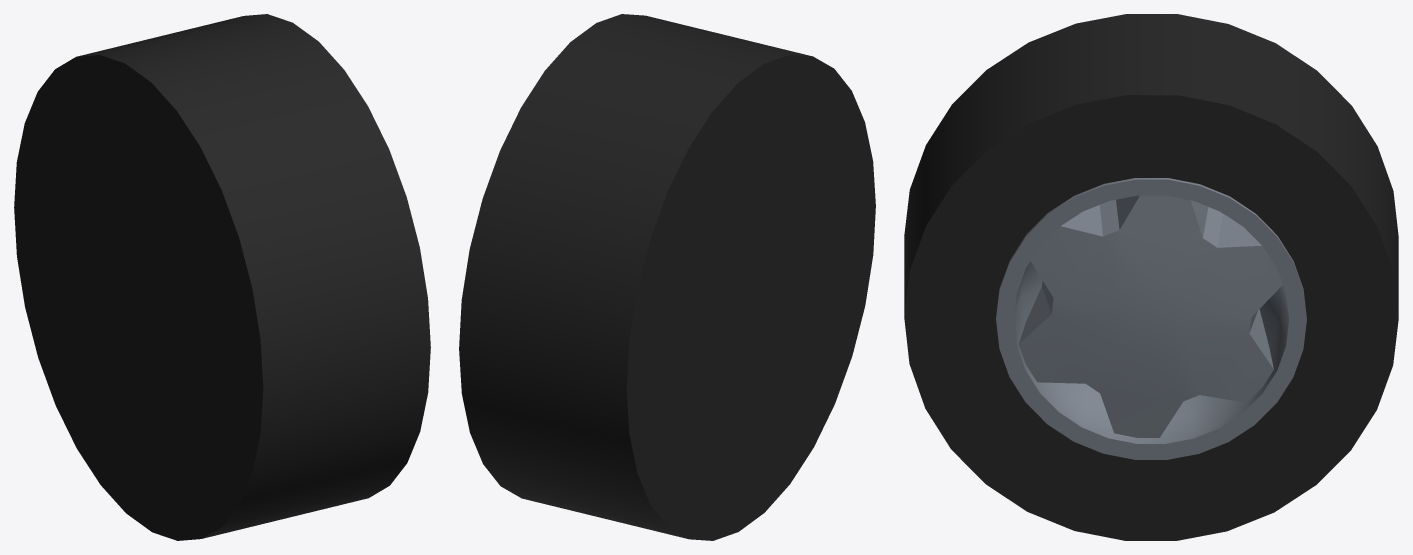
The model's file is wheel_bl.glb.
The picture shows the model from 3 angles, left to right: view 1: azimuth 30°, elevation 25°; view 2: azimuth 150°, elevation 25°; view 3: azimuth 270°, elevation 25°; orthographic projection.
Parts seen in each view (by area): view 1: wheel bl.001; view 2: wheel bl.001; view 3: wheel bl.001.
Part boxes in pixels (x1,y1,x2,y2): wheel bl.001: (14,14,430,540); wheel bl.001: (459,14,875,540); wheel bl.001: (904,14,1398,540).
Size of the model in its own units: 0.2575 by 0.6464 by 0.6498.
1 material, 1 textured.
